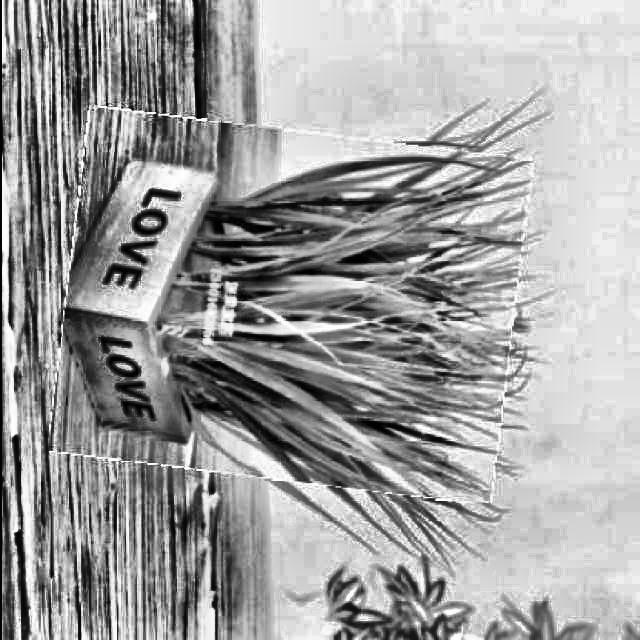plants: (55, 119, 520, 493)
